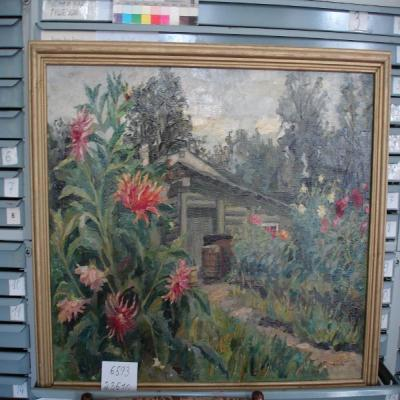painting: (28, 39, 392, 394)
